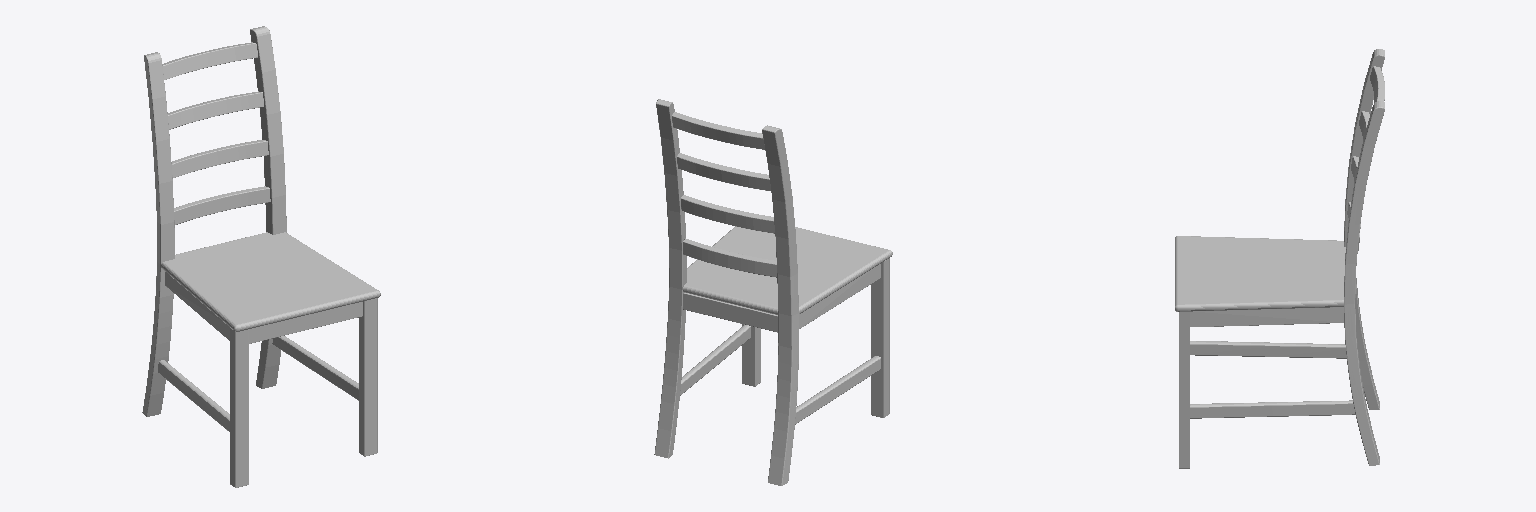
Rendered from black-chair.obj.
3 views of the same model, side by side, from view 1: azimuth 30°, elevation 25°; view 2: azimuth 150°, elevation 25°; view 3: azimuth 270°, elevation 25° (orthographic).
Visible parts, largest first — view 1: uploads_files_[number redacted]_KAUSTBY; view 2: uploads_files_[number redacted]_KAUSTBY; view 3: uploads_files_[number redacted]_KAUSTBY.
Boxes of the visible parts, x1=… form: uploads_files_[number redacted]_KAUSTBY: x1=142, y1=26, x2=380, y2=487; uploads_files_[number redacted]_KAUSTBY: x1=654, y1=99, x2=892, y2=485; uploads_files_[number redacted]_KAUSTBY: x1=1175, y1=49, x2=1384, y2=468.
Bounding box in the file's own units: 44 × 102 × 54.84.